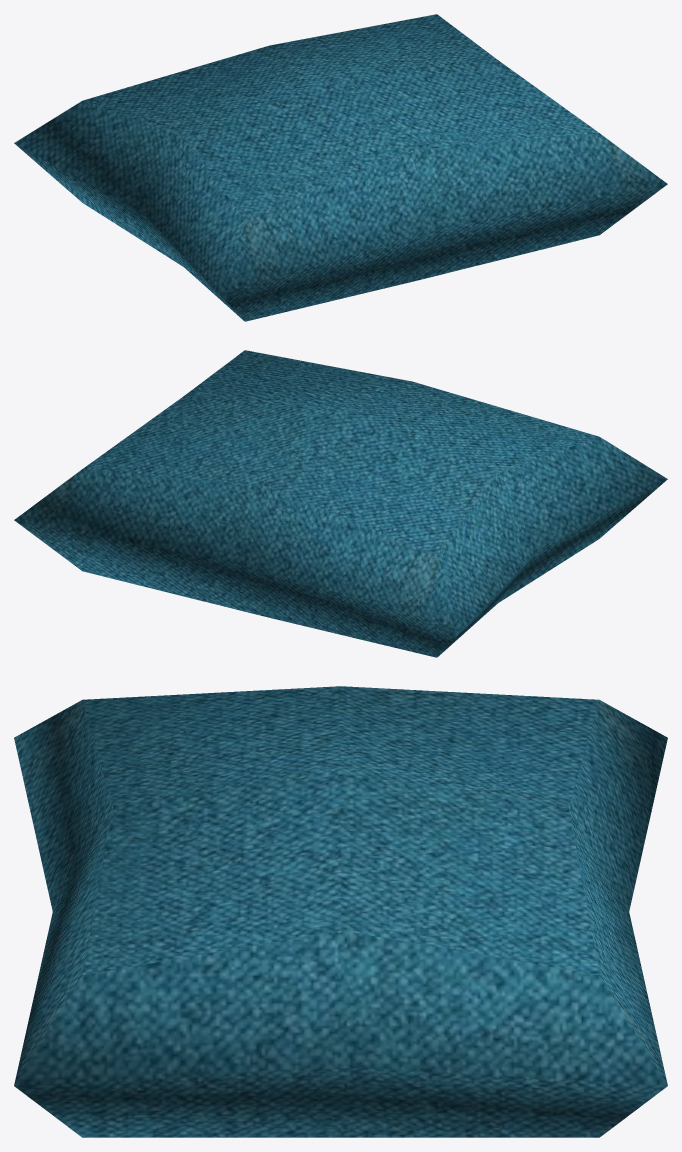
Rendered from Pillow_03.glb.
3 views of the same model, one above another, from view 1: azimuth 30°, elevation 25°; view 2: azimuth 150°, elevation 25°; view 3: azimuth 270°, elevation 25° (orthographic). The views are drawn at different scales.
Visible parts, largest first — view 1: Pillow_03; view 2: Pillow_03; view 3: Pillow_03.
Part boxes in pixels (bbox=[...]): Pillow_03: bbox=[14, 14, 667, 321]; Pillow_03: bbox=[14, 350, 667, 657]; Pillow_03: bbox=[14, 686, 667, 1137].
Bounding box in the file's own units: 0.7599 × 0.2884 × 0.6031.
Materials: 1 (1 with a texture image).
